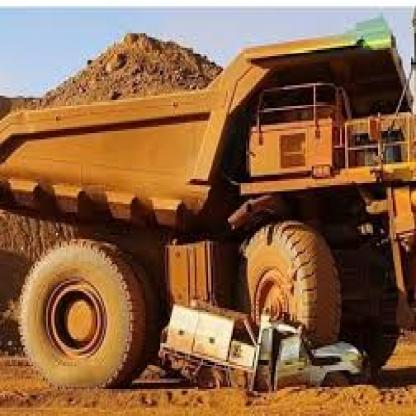dump_truck: (7, 33, 414, 391)
